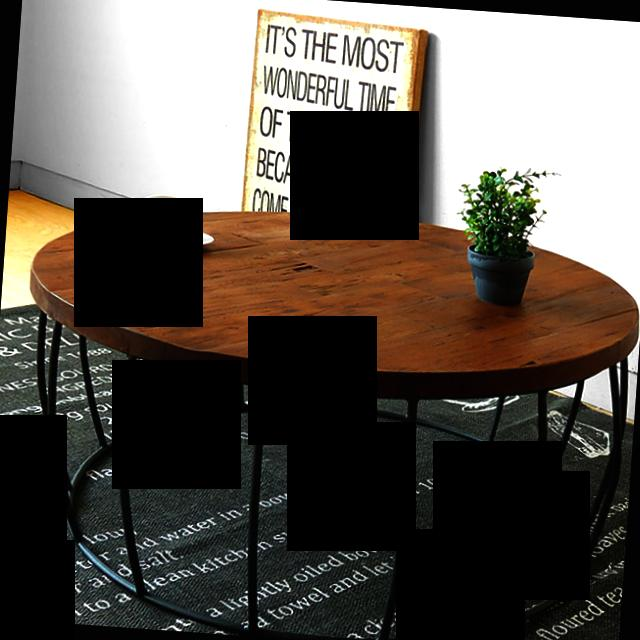vintage desk: (3, 190, 640, 640)
